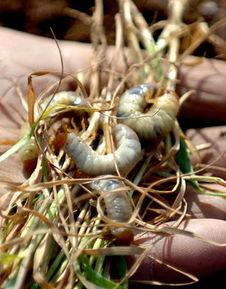grub: (64, 127, 150, 181)
